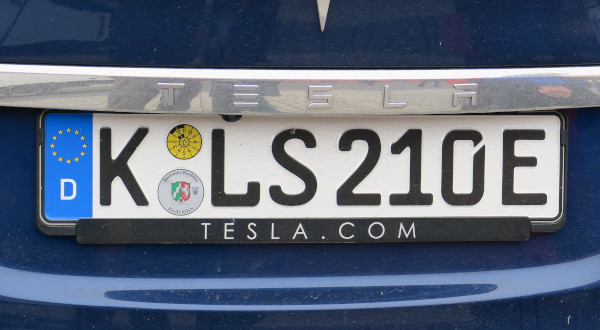license_plate: (40, 111, 562, 224)
